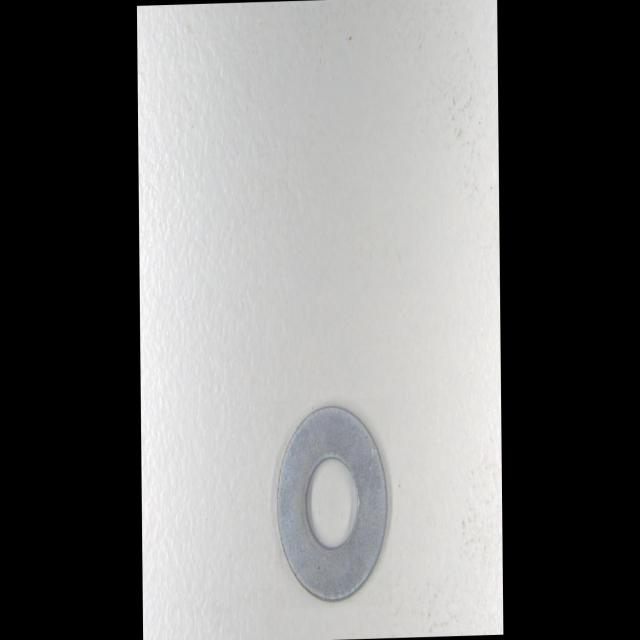washer: (275, 401, 391, 609)
